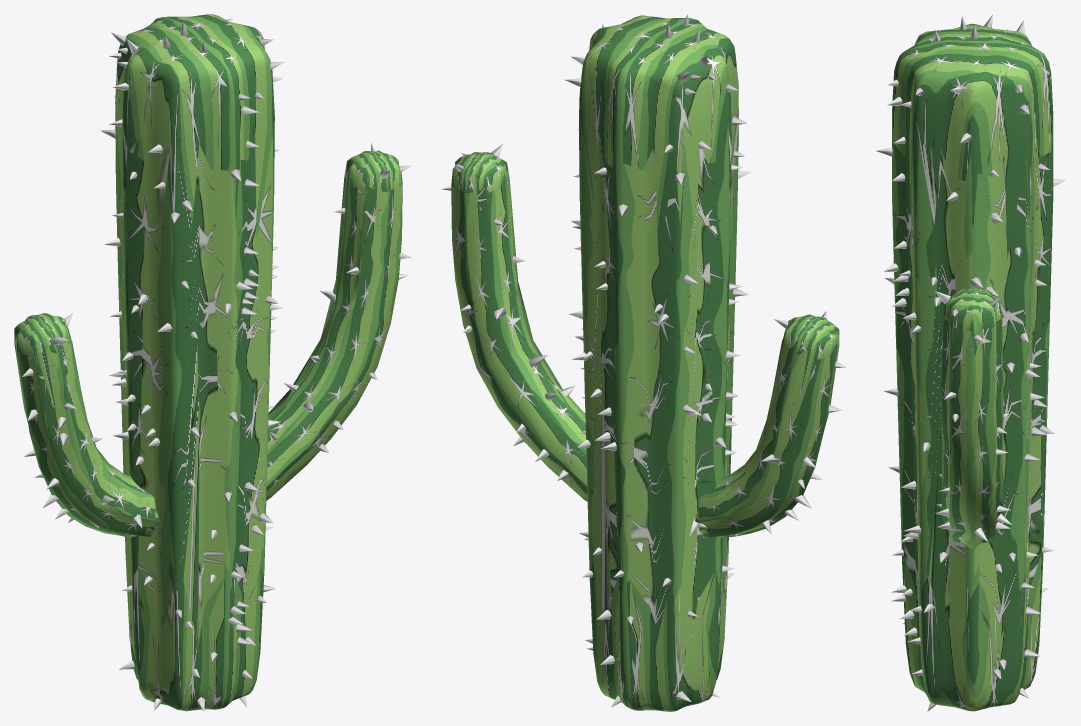
Rendered from prickly-cactus.glb.
3 renders of one model, left to right at view 1: azimuth 30°, elevation 25°; view 2: azimuth 150°, elevation 25°; view 3: azimuth 270°, elevation 25°, orthographic.
Parts seen in each view (by area): view 1: Trunk; view 2: Trunk; view 3: Trunk.
Part boxes in pixels (box(x1,y1,x2,y2)): Trunk: box(14, 14, 402, 711); Trunk: box(451, 15, 839, 711); Trunk: box(892, 23, 1053, 711).
Size of the model in its own units: 3.23 by 5.35 by 1.39.
1 material, 1 textured.
